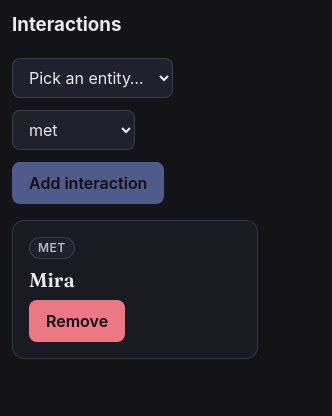
Test: SessionTouches › surfaces add and remove errors
Check: the text "met" is shown, box left=29, top=236, right=75, bottom=259
Select "Mira (NPC)" in the dropdown named "Entity" at x=92, y=78, box left=12, top=58, right=173, bottom=98
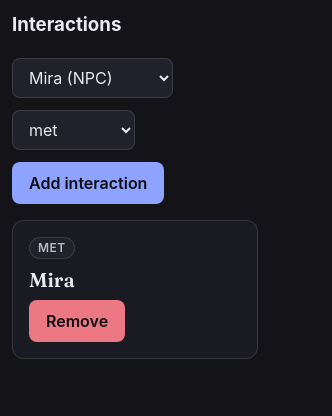
Click the button "Add interaction" at x=88, y=182, box left=12, top=162, right=164, bottom=204
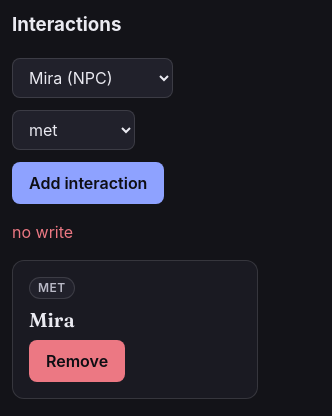
Check: the message reads "no write", box left=12, top=222, right=73, bottom=242
Click the button "Remove" at x=77, y=361, box left=29, top=340, right=125, bottom=382
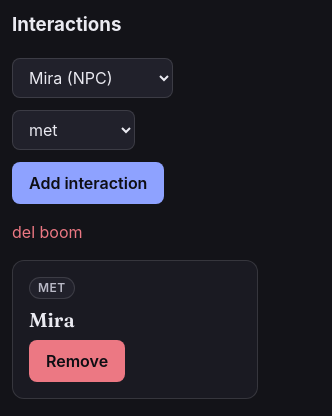
Check: the message reads "del boom", box left=12, top=222, right=82, bottom=242
